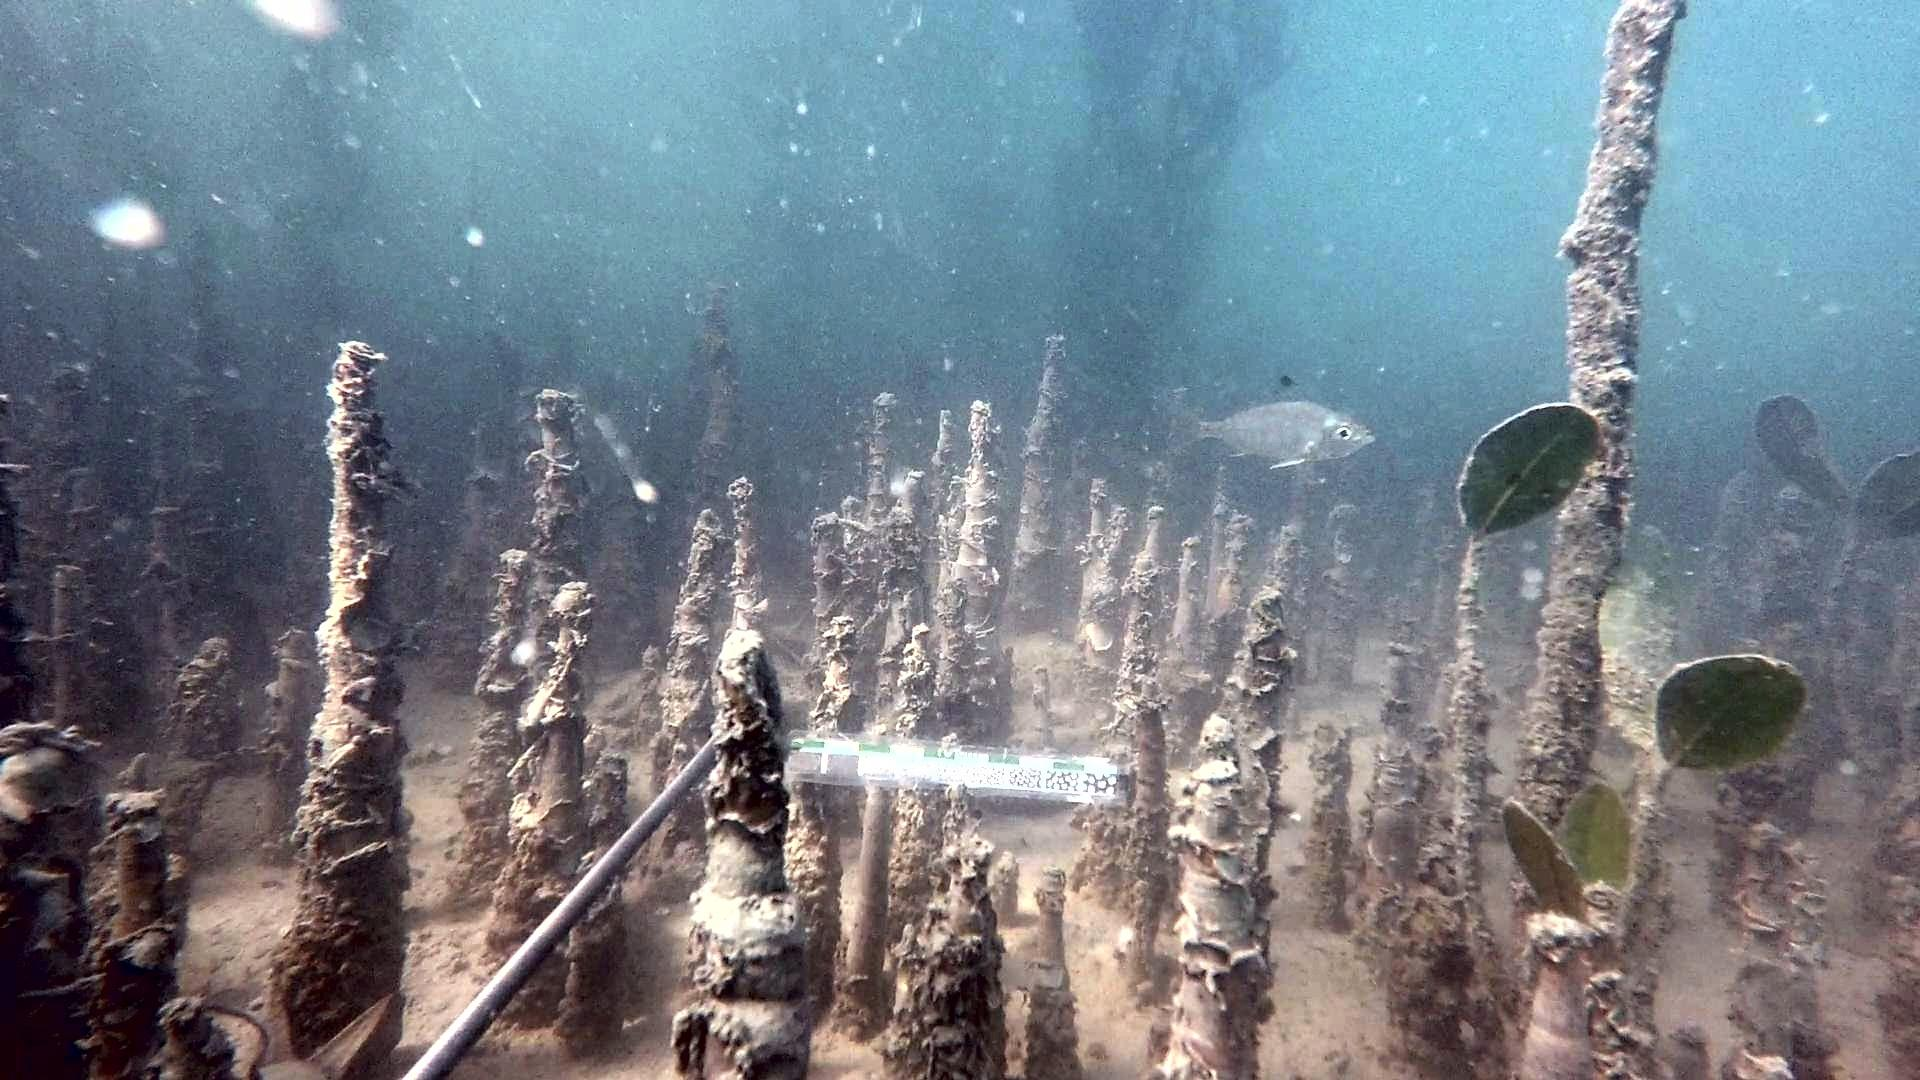gerres: (1158, 371, 1378, 471)
